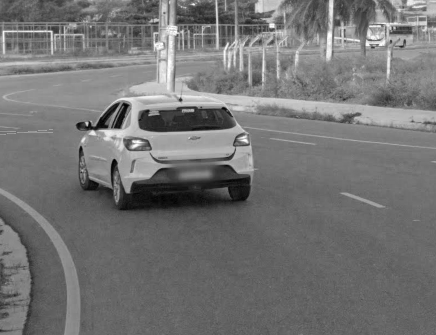car: (72, 77, 259, 213)
